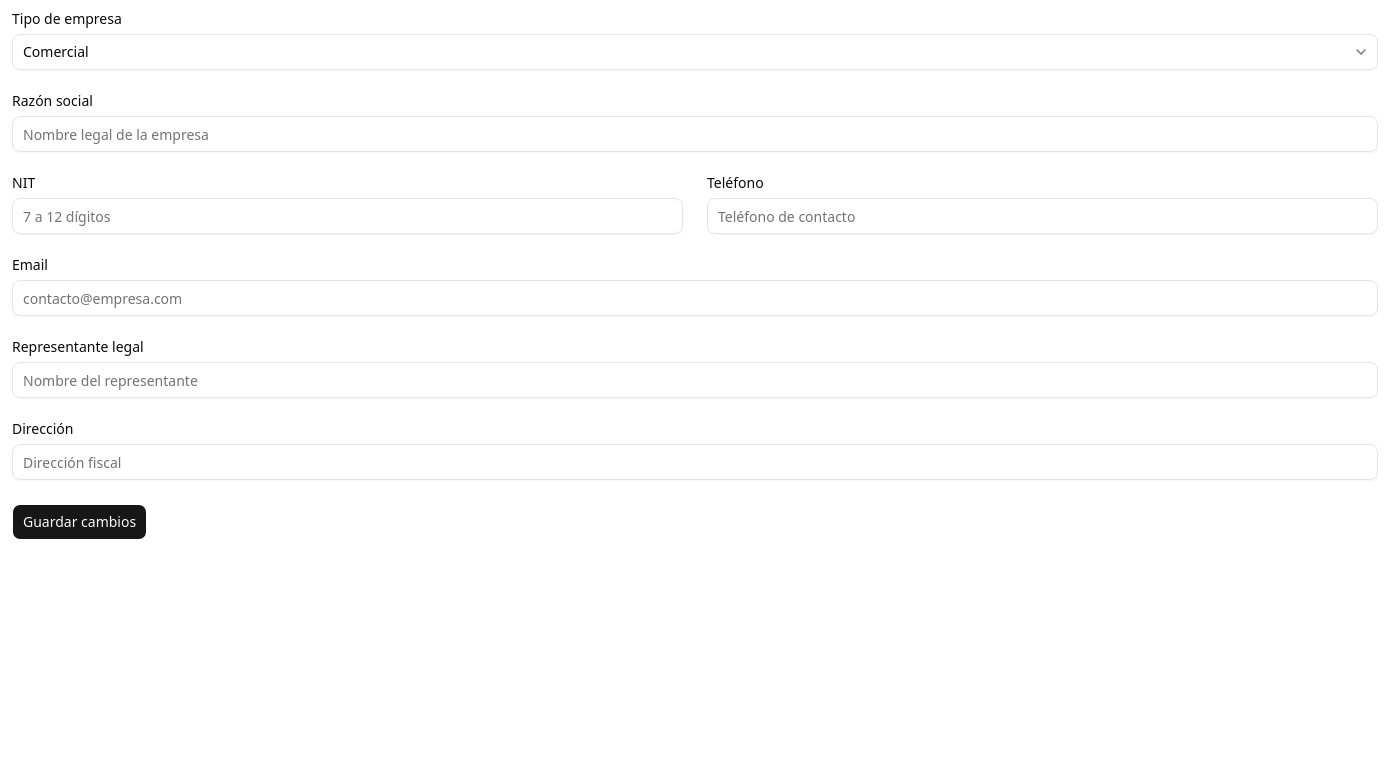
it: EmpresaForm › NIT inválido muestra mensaje de error en español
The width and height of the screenshot is (1390, 780).
Type "12345AB" into the field labelled "NIT".
click(348, 216); type("12345AB")  # box [12, 198, 683, 234]
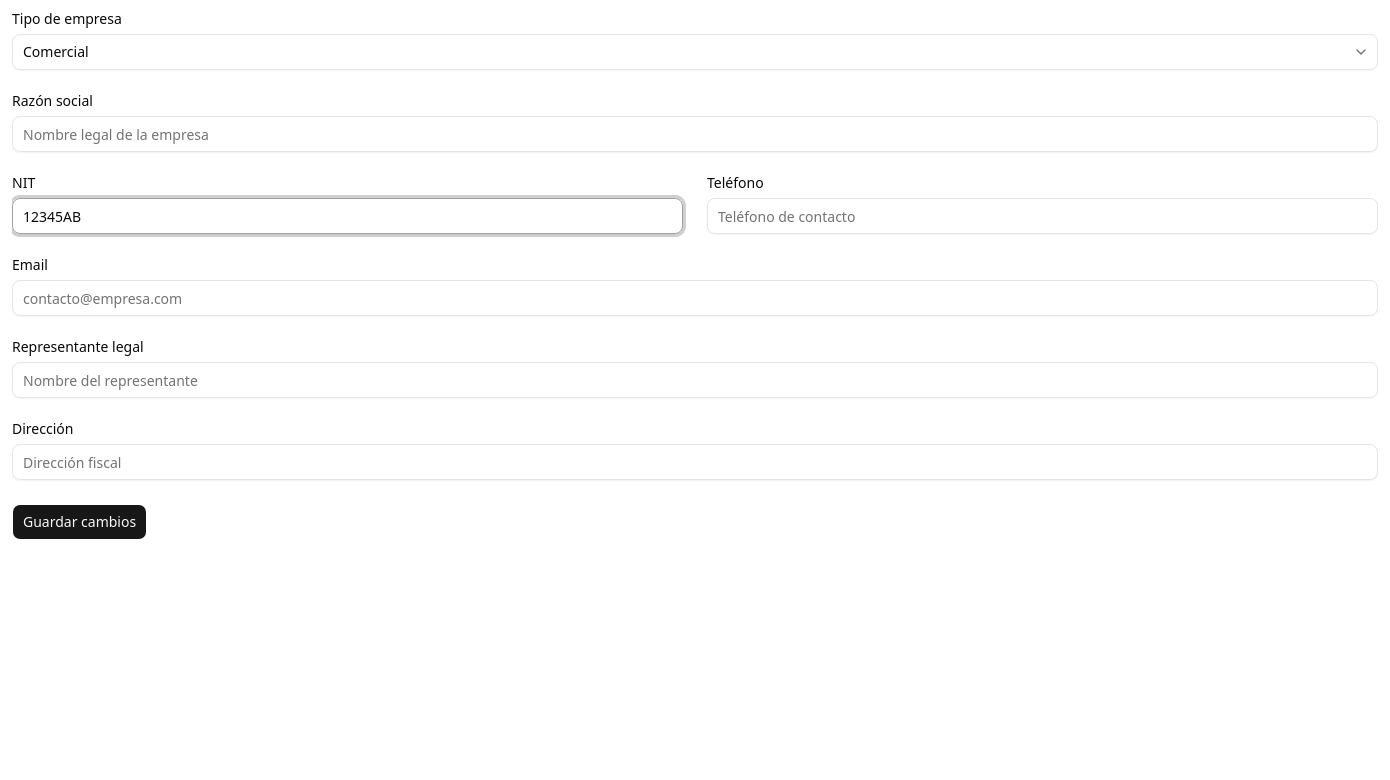
Click the button "Guardar cambios".
click(80, 522)  # box [12, 504, 147, 540]
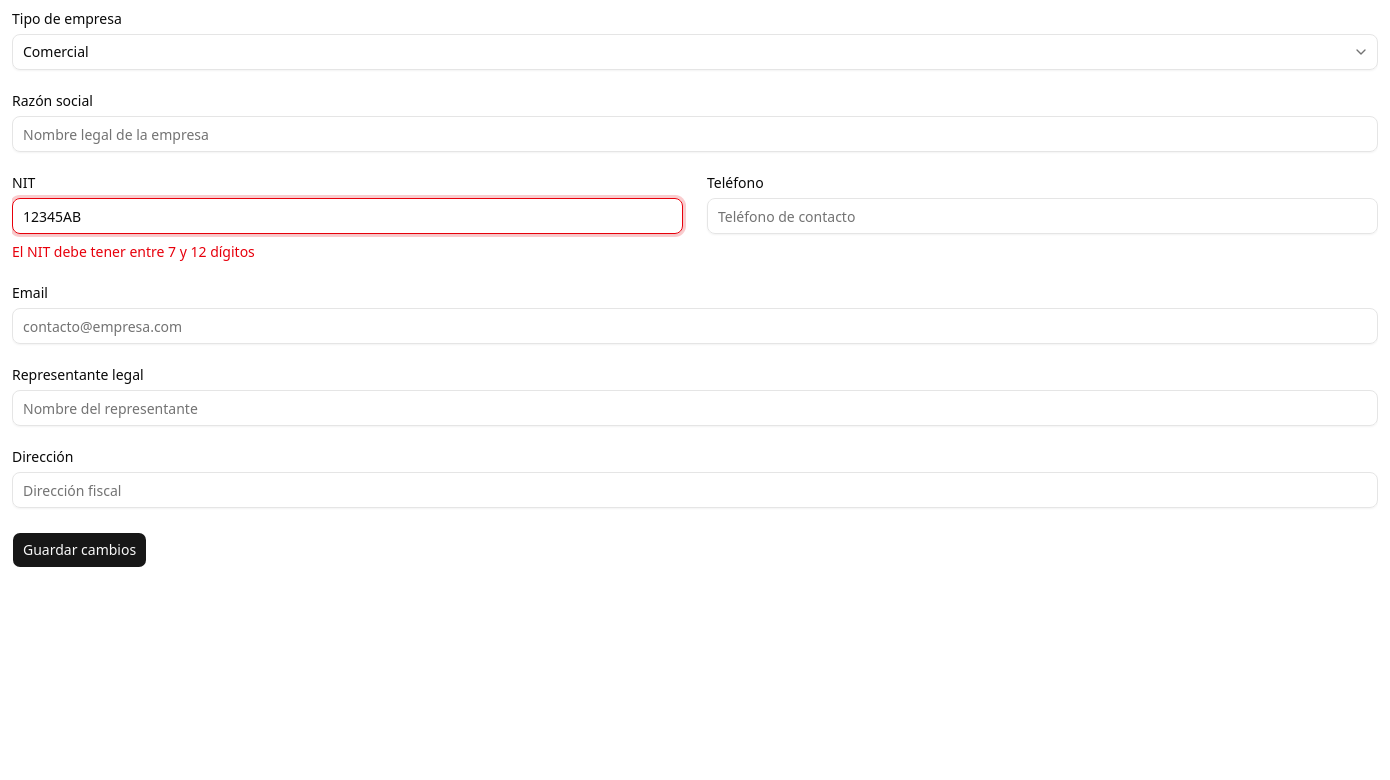
Expected: the text "El NIT debe tener entre 7 y 12 dígitos" is shown, [12, 242, 255, 261]
